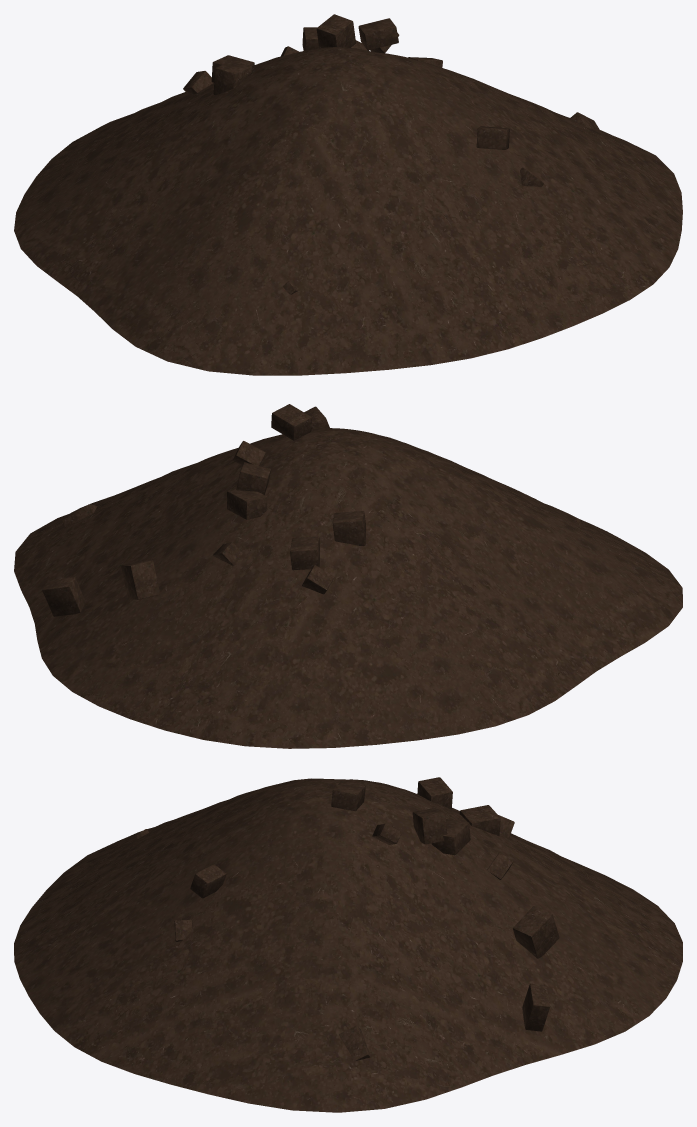
File: TER-SOL-001.glb
3 renders of one model, top to bottom at view 1: azimuth 30°, elevation 25°; view 2: azimuth 150°, elevation 25°; view 3: azimuth 270°, elevation 25°, orthographic. The views are drawn at different scales.
Visible parts, largest first — view 1: TER-SOL-001_monte, TER-SOL-001_caco2, TER-SOL-001_caco8, TER-SOL-001_caco10, TER-SOL-001_caco13; view 2: TER-SOL-001_monte, TER-SOL-001_caco4, TER-SOL-001_caco7, TER-SOL-001_caco8, TER-SOL-001_caco10, TER-SOL-001_caco6, TER-SOL-001_caco5, TER-SOL-001_caco2, TER-SOL-001_caco0, TER-SOL-001_caco3; view 3: TER-SOL-001_monte, TER-SOL-001_caco7, TER-SOL-001_caco4, TER-SOL-001_caco2, TER-SOL-001_caco6, TER-SOL-001_caco8, TER-SOL-001_caco5, TER-SOL-001_caco13, TER-SOL-001_caco10, TER-SOL-001_caco9.
Part boxes in pixels (x1=…): TER-SOL-001_monte: x1=14, y1=47, x2=682, y2=375; TER-SOL-001_caco2: x1=316, y1=14, x2=355, y2=48; TER-SOL-001_caco8: x1=358, y1=18, x2=398, y2=50; TER-SOL-001_caco10: x1=213, y1=61, x2=252, y2=95; TER-SOL-001_caco13: x1=476, y1=126, x2=509, y2=149; TER-SOL-001_monte: x1=14, y1=427, x2=682, y2=748; TER-SOL-001_caco4: x1=42, y1=577, x2=85, y2=616; TER-SOL-001_caco7: x1=121, y1=560, x2=159, y2=599; TER-SOL-001_caco8: x1=271, y1=404, x2=311, y2=440; TER-SOL-001_caco10: x1=332, y1=511, x2=365, y2=545; TER-SOL-001_caco6: x1=227, y1=489, x2=267, y2=519; TER-SOL-001_caco5: x1=290, y1=536, x2=319, y2=570; TER-SOL-001_caco2: x1=236, y1=462, x2=271, y2=494; TER-SOL-001_caco0: x1=302, y1=565, x2=334, y2=594; TER-SOL-001_caco3: x1=233, y1=441, x2=265, y2=465; TER-SOL-001_monte: x1=14, y1=778, x2=682, y2=1112; TER-SOL-001_caco7: x1=513, y1=906, x2=559, y2=958; TER-SOL-001_caco4: x1=522, y1=983, x2=550, y2=1031; TER-SOL-001_caco2: x1=412, y1=808, x2=447, y2=844; TER-SOL-001_caco6: x1=431, y1=819, x2=470, y2=855; TER-SOL-001_caco8: x1=331, y1=781, x2=365, y2=811; TER-SOL-001_caco5: x1=459, y1=805, x2=500, y2=835; TER-SOL-001_caco13: x1=190, y1=864, x2=226, y2=898; TER-SOL-001_caco10: x1=417, y1=777, x2=452, y2=809; TER-SOL-001_caco9: x1=339, y1=1025, x2=370, y2=1060.
Size of the model in its own units: 1.81 by 0.5729 by 1.78.
1 material, 1 textured.
